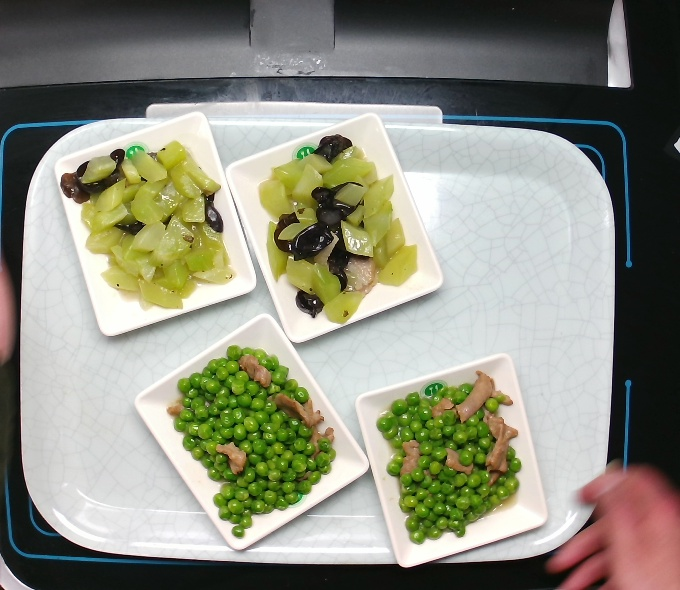wcq-CanDouRouSi: (158, 337, 341, 542), (372, 365, 529, 547)
wcq-WoSunKuai: (60, 140, 237, 322), (259, 134, 424, 325)
